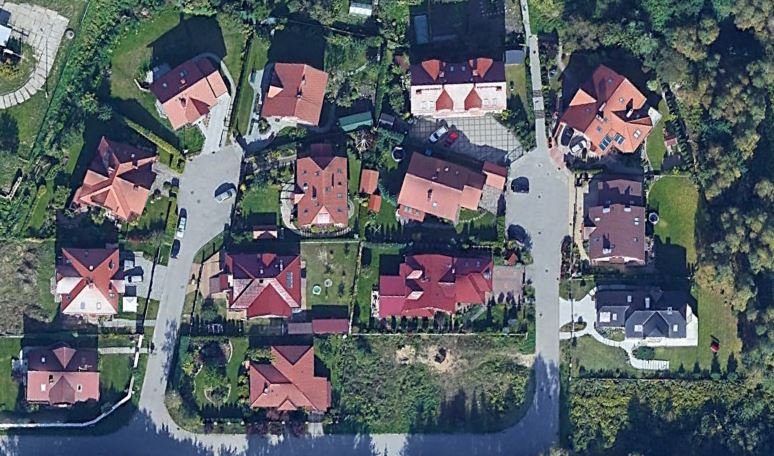family house: (555, 61, 669, 165), (392, 148, 510, 226), (375, 252, 498, 321), (68, 134, 162, 224), (402, 51, 514, 121), (576, 176, 654, 273), (145, 56, 233, 135), (241, 342, 334, 415), (18, 339, 106, 413), (219, 250, 303, 323), (585, 286, 694, 342), (49, 243, 126, 322), (258, 58, 333, 132), (288, 150, 352, 230)
